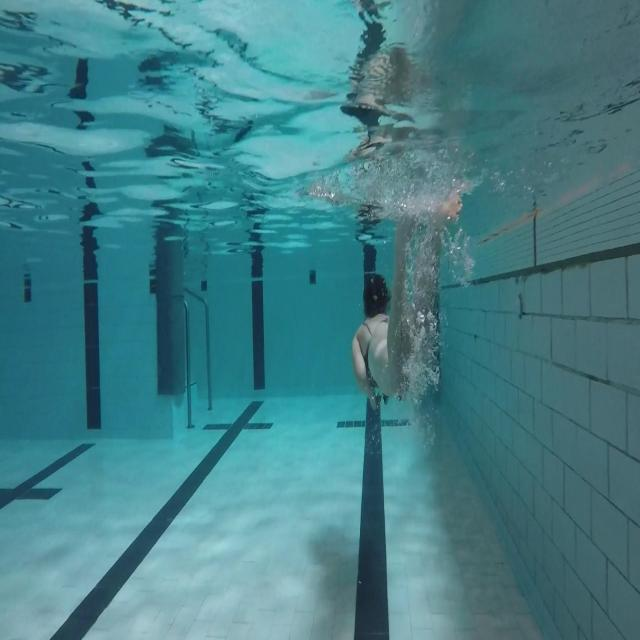human: (351, 192, 463, 410)
